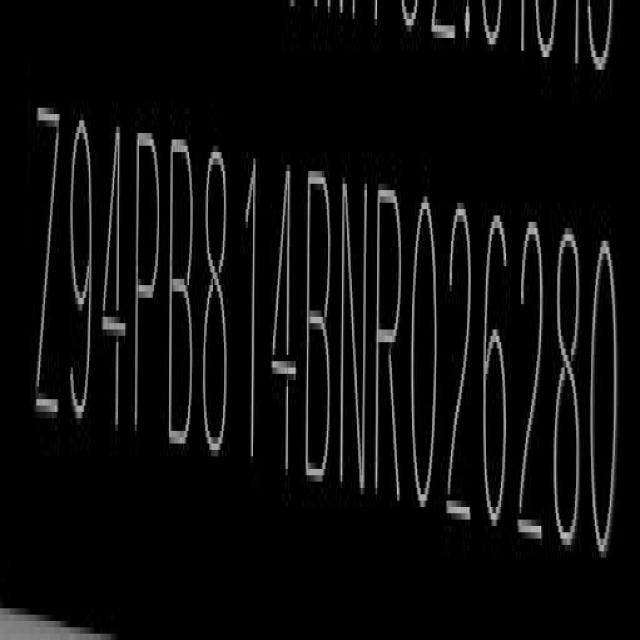0: (405, 190, 441, 509), (590, 240, 619, 564)
1: (243, 155, 259, 474)
2: (512, 211, 548, 547), (445, 204, 476, 521)
4: (264, 155, 298, 490), (100, 112, 128, 436)
6: (480, 202, 508, 528)
8: (200, 153, 231, 474), (553, 235, 581, 547)
9: (67, 101, 95, 420)
B: (302, 164, 333, 486), (168, 120, 194, 460)
N: (337, 167, 372, 493)
P: (132, 117, 162, 432)
R: (372, 178, 403, 512)
Z: (34, 98, 62, 424)
